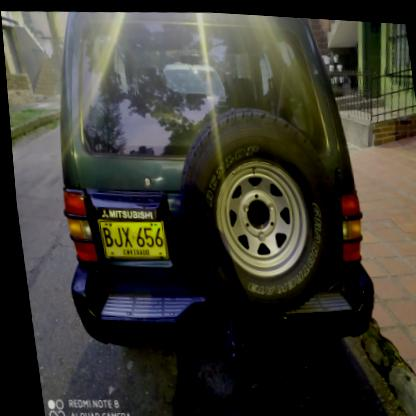placa: (89, 212, 170, 263)
